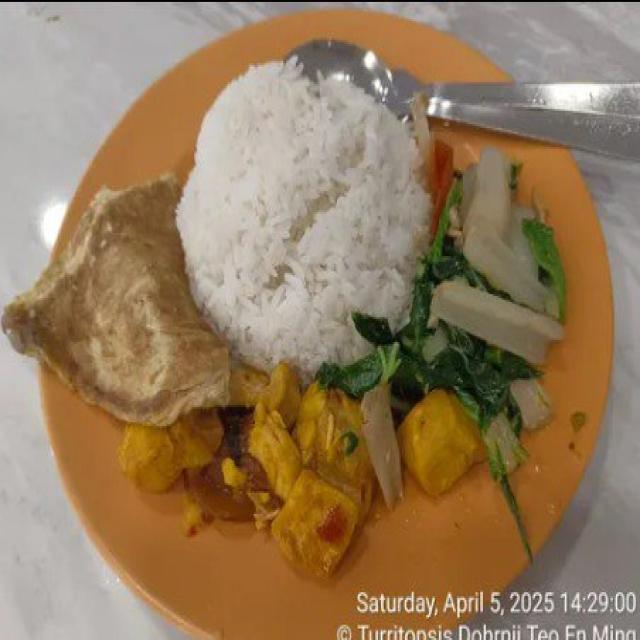Egg: (1, 174, 261, 424)
Green veg: (319, 180, 541, 556), (521, 220, 564, 317)
Rice: (177, 61, 429, 373)
